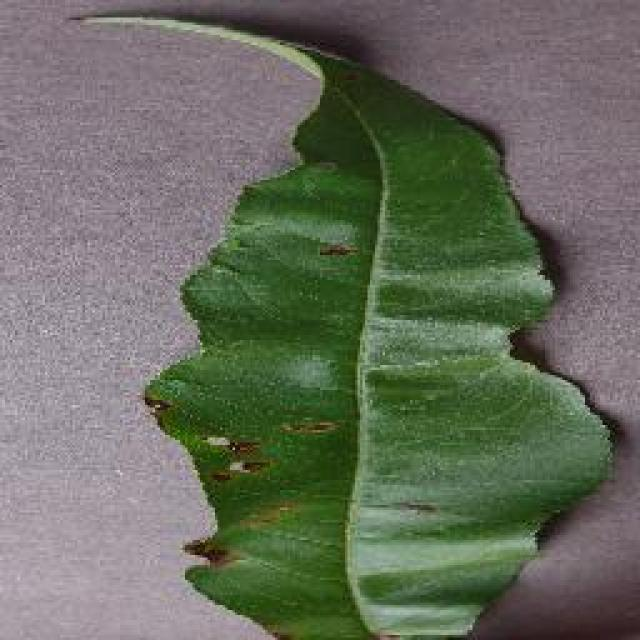Peach_Bacterial_Spot: (180, 250, 473, 562)
